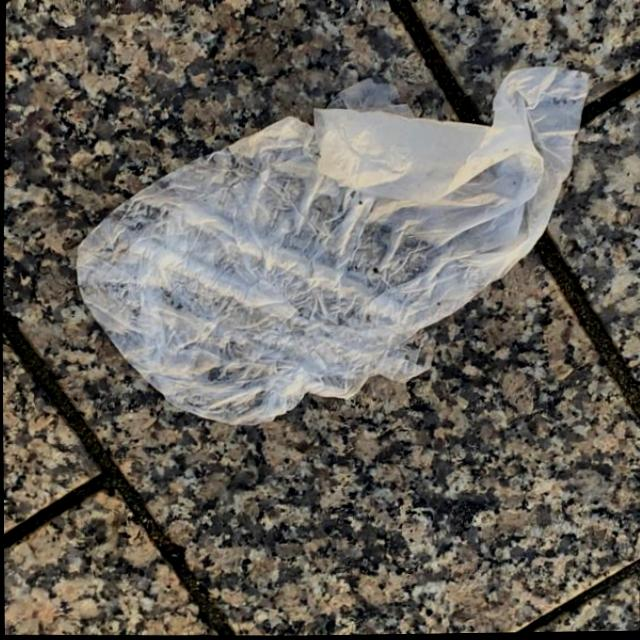Paper: (68, 55, 598, 436)
